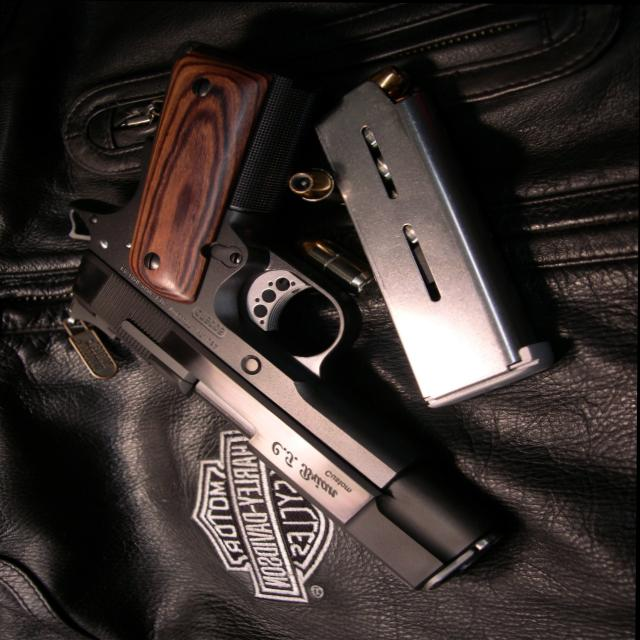handgun: (61, 43, 513, 589)
